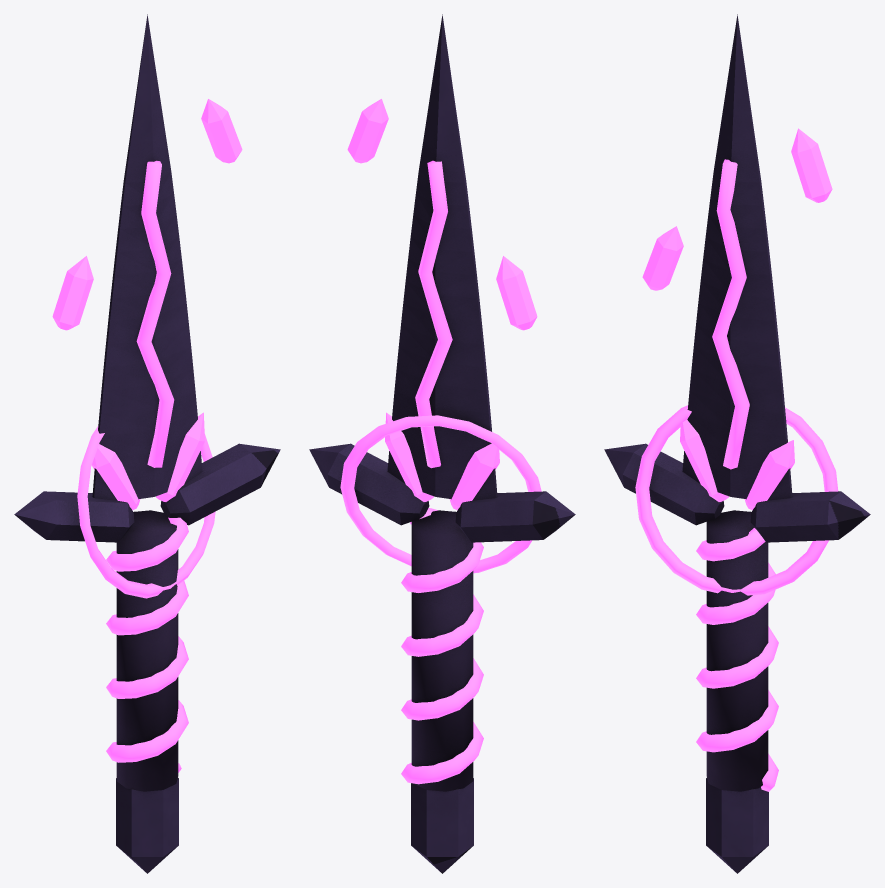
Rendered from 12_void_dagger.fbx.
3 views of the same model, side by side, from view 1: azimuth 30°, elevation 25°; view 2: azimuth 150°, elevation 25°; view 3: azimuth 330°, elevation 25° (orthographic).
Parts seen in each view (by area): view 1: Weapon; view 2: Weapon; view 3: Weapon.
Part boxes in pixels (box(x1,y1,x2,y2)): Weapon: box(14, 14, 280, 873); Weapon: box(309, 14, 575, 873); Weapon: box(604, 14, 870, 873).
Bounding box in the file's own units: 18.17 × 56 × 5.54.
2 materials, 1 textured.
